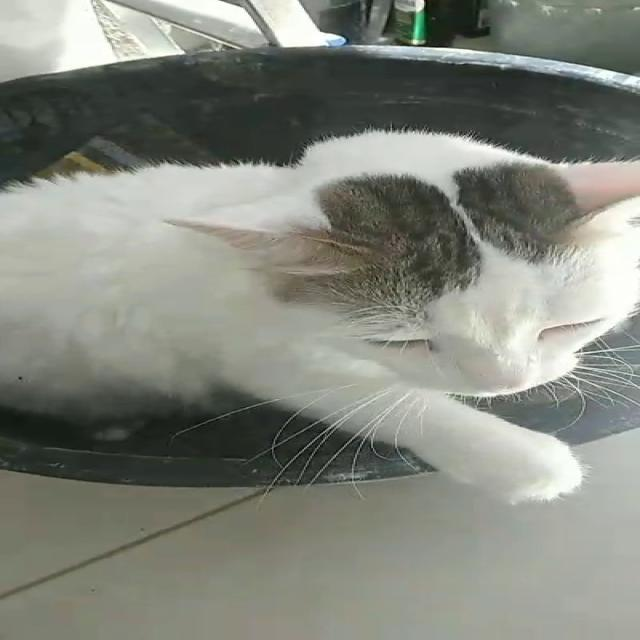Simba: (26, 120, 638, 550)
